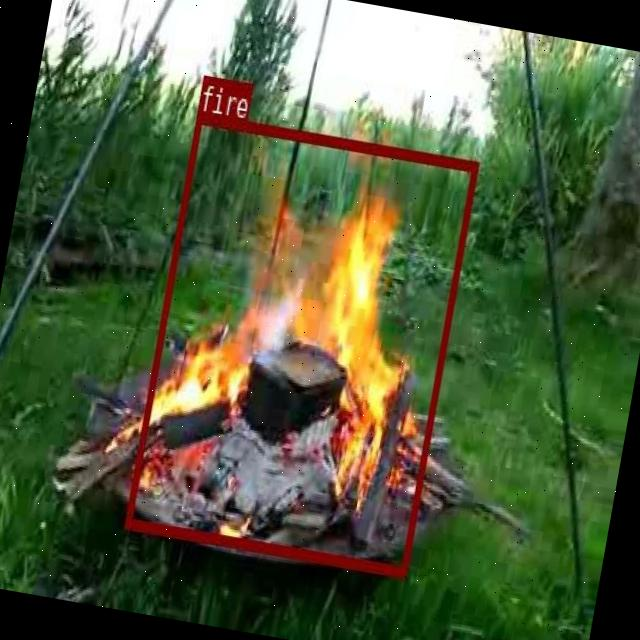fire: (123, 110, 478, 576)
